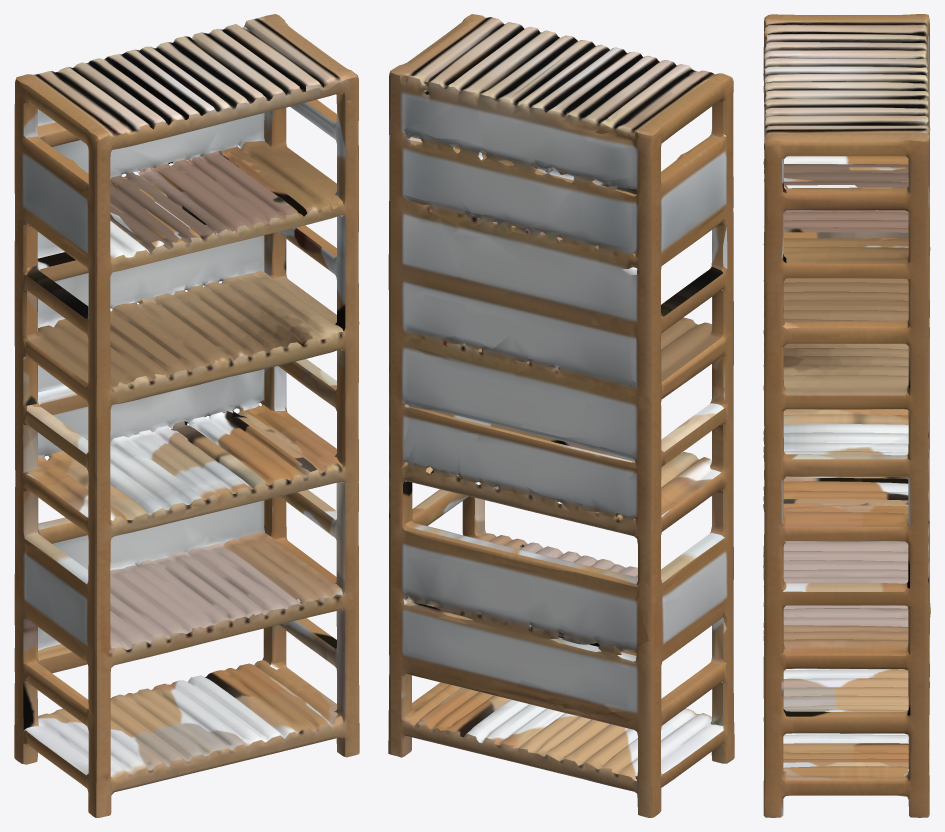
File: shelf__shelf#2.glb
3 views of the same model, side by side, from view 1: azimuth 30°, elevation 25°; view 2: azimuth 150°, elevation 25°; view 3: azimuth 270°, elevation 25° (orthographic).
Visible parts, largest first — view 1: tmp2bovohkr.ply; view 2: tmp2bovohkr.ply; view 3: tmp2bovohkr.ply.
Part boxes in pixels (x1,y1,x2,y2): tmp2bovohkr.ply: [14, 14, 359, 817]; tmp2bovohkr.ply: [388, 14, 734, 817]; tmp2bovohkr.ply: [763, 14, 930, 817].
Size of the model in its own units: 0.8078 by 1.99 by 0.4449.
1 material, 1 textured.
